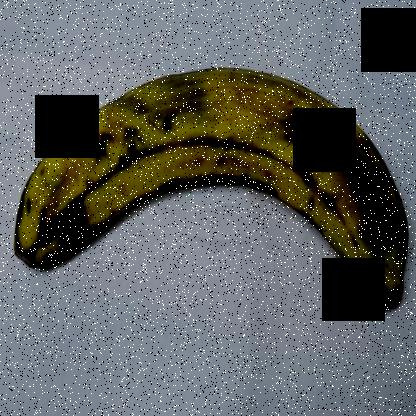overripe: (1, 60, 410, 322)
